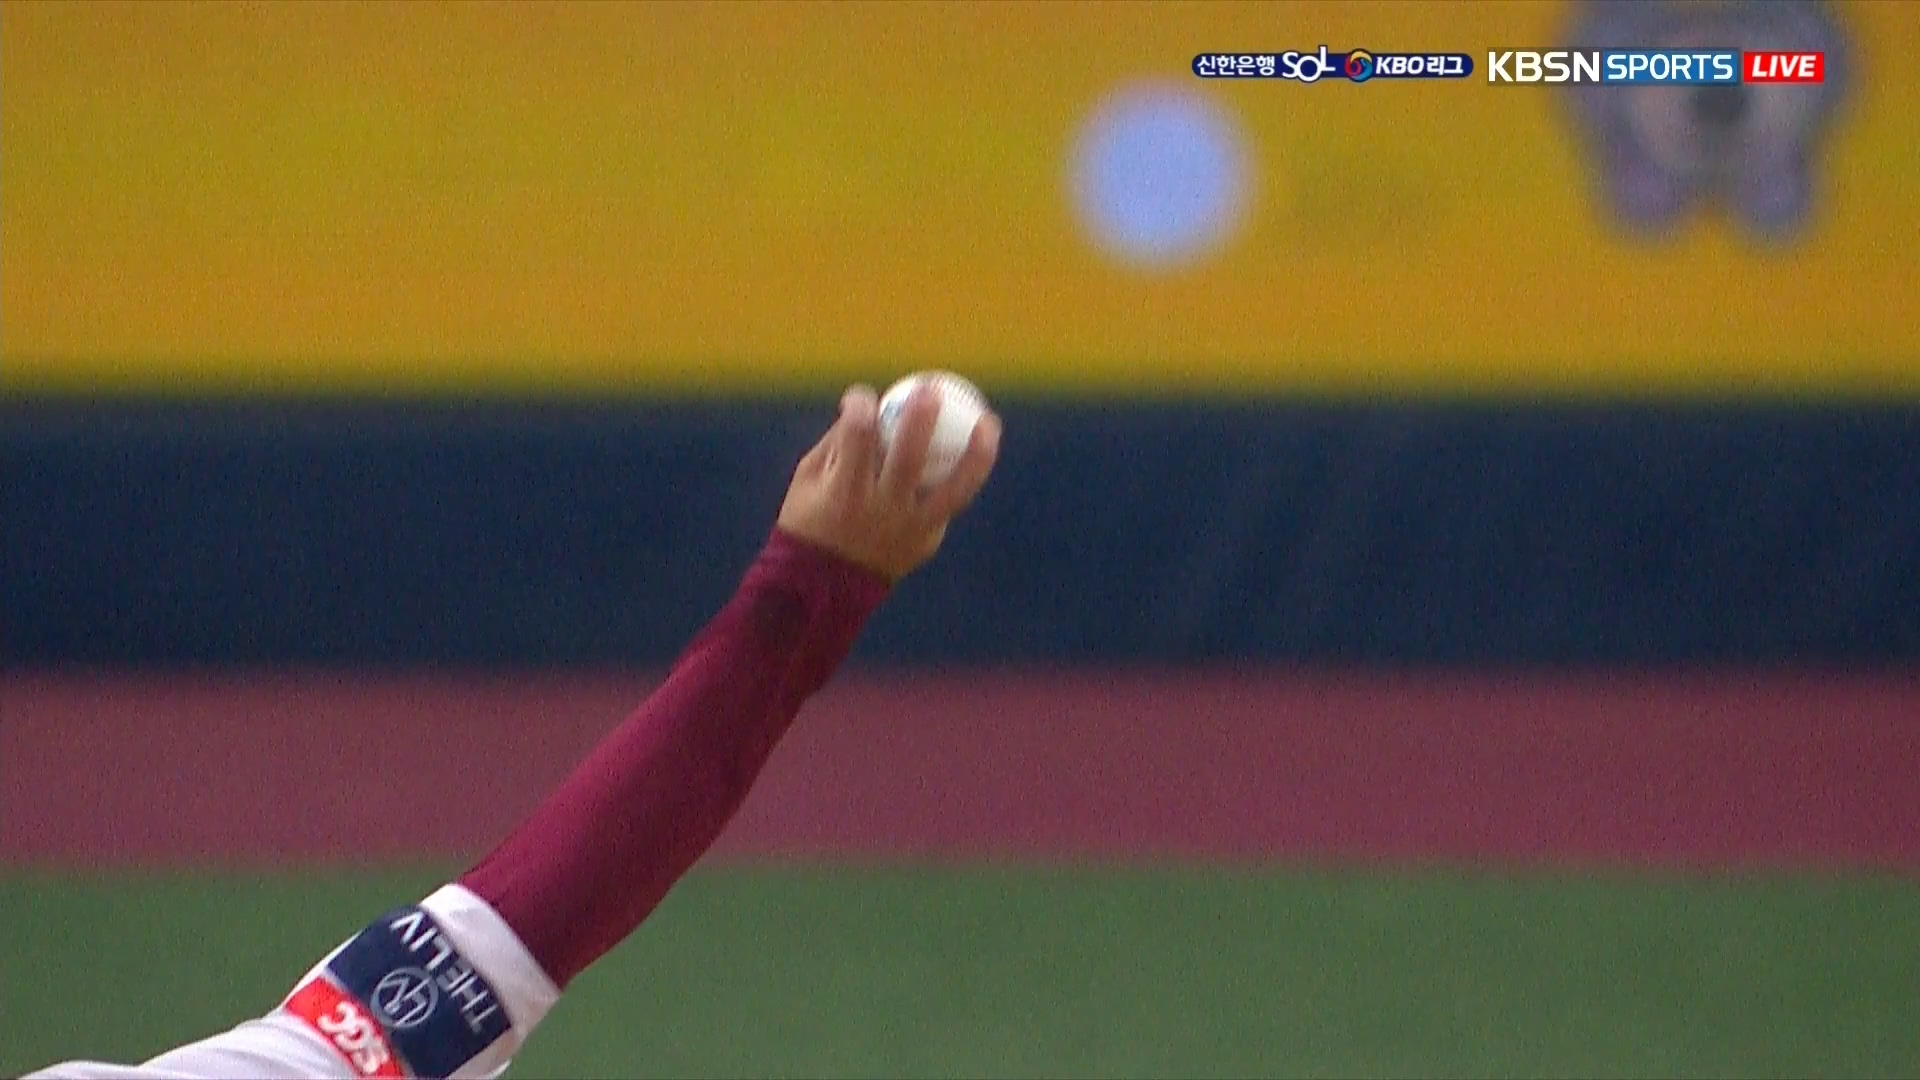zoomin_hand: (531, 351, 1034, 895)
